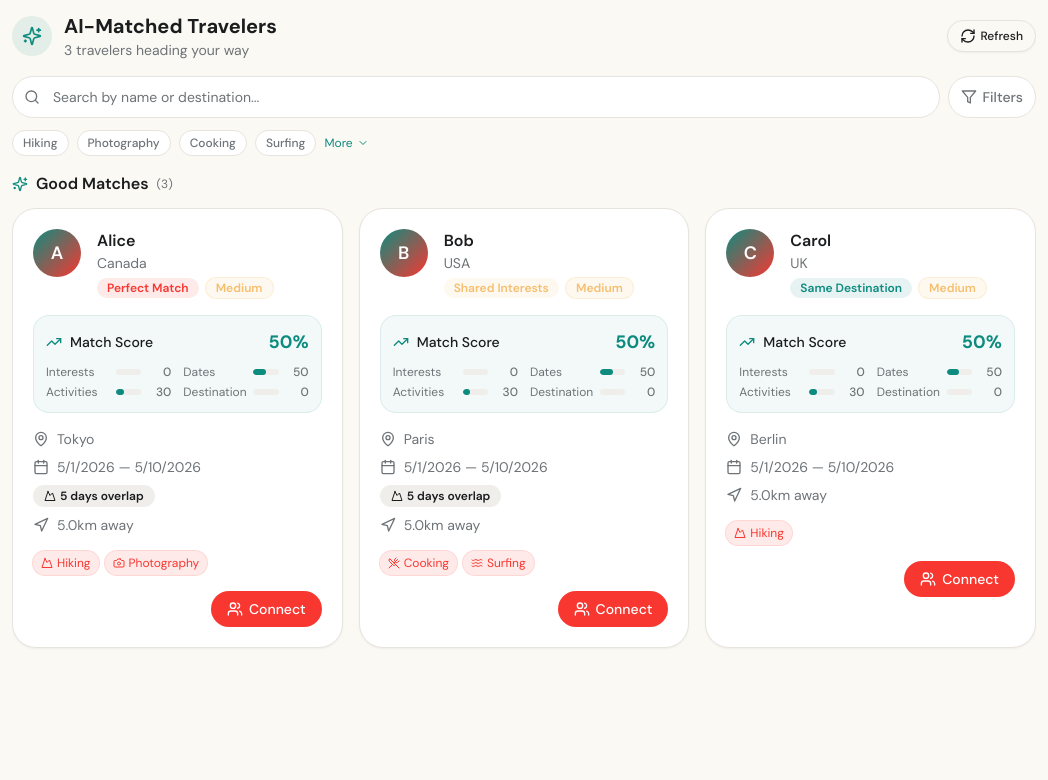
NearbyTravelersSection › activity filter chips › shows "matching your filter" subtitle when filters active
expect the text "3 travelers heading your way" is shown: met, box [64, 40, 277, 60]
Click the button "Cooking" at (213, 143), box [179, 130, 247, 156]
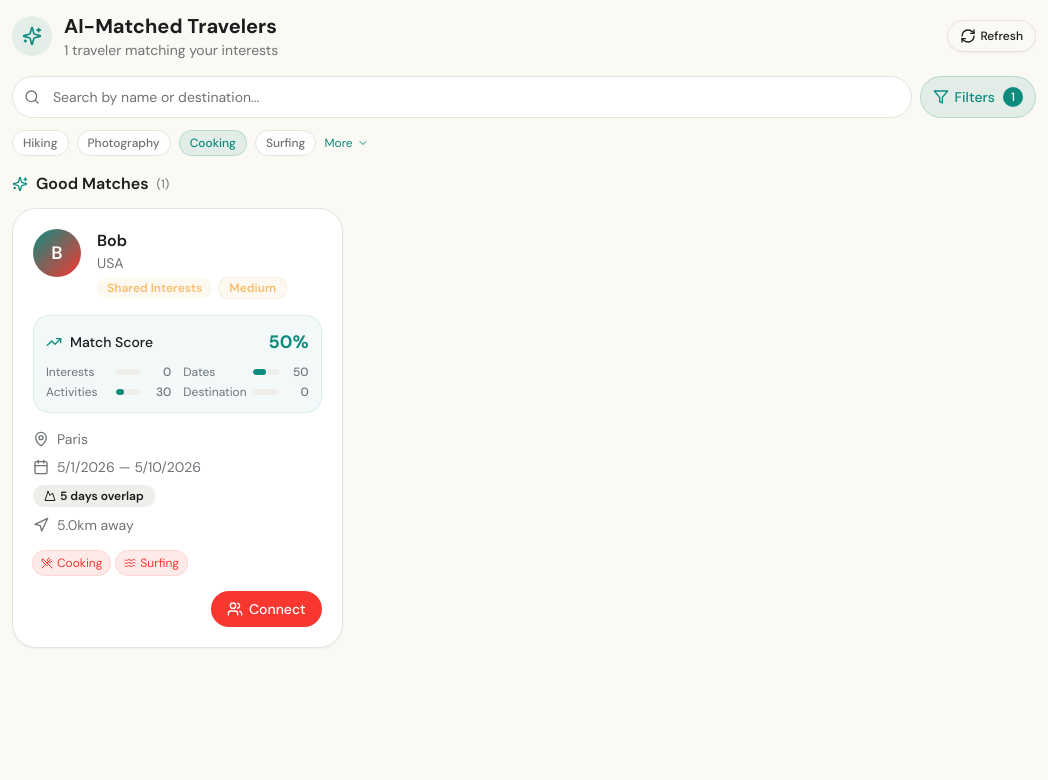
expect the text "1 traveler matching your interests" is shown: met, box [64, 40, 278, 60]
